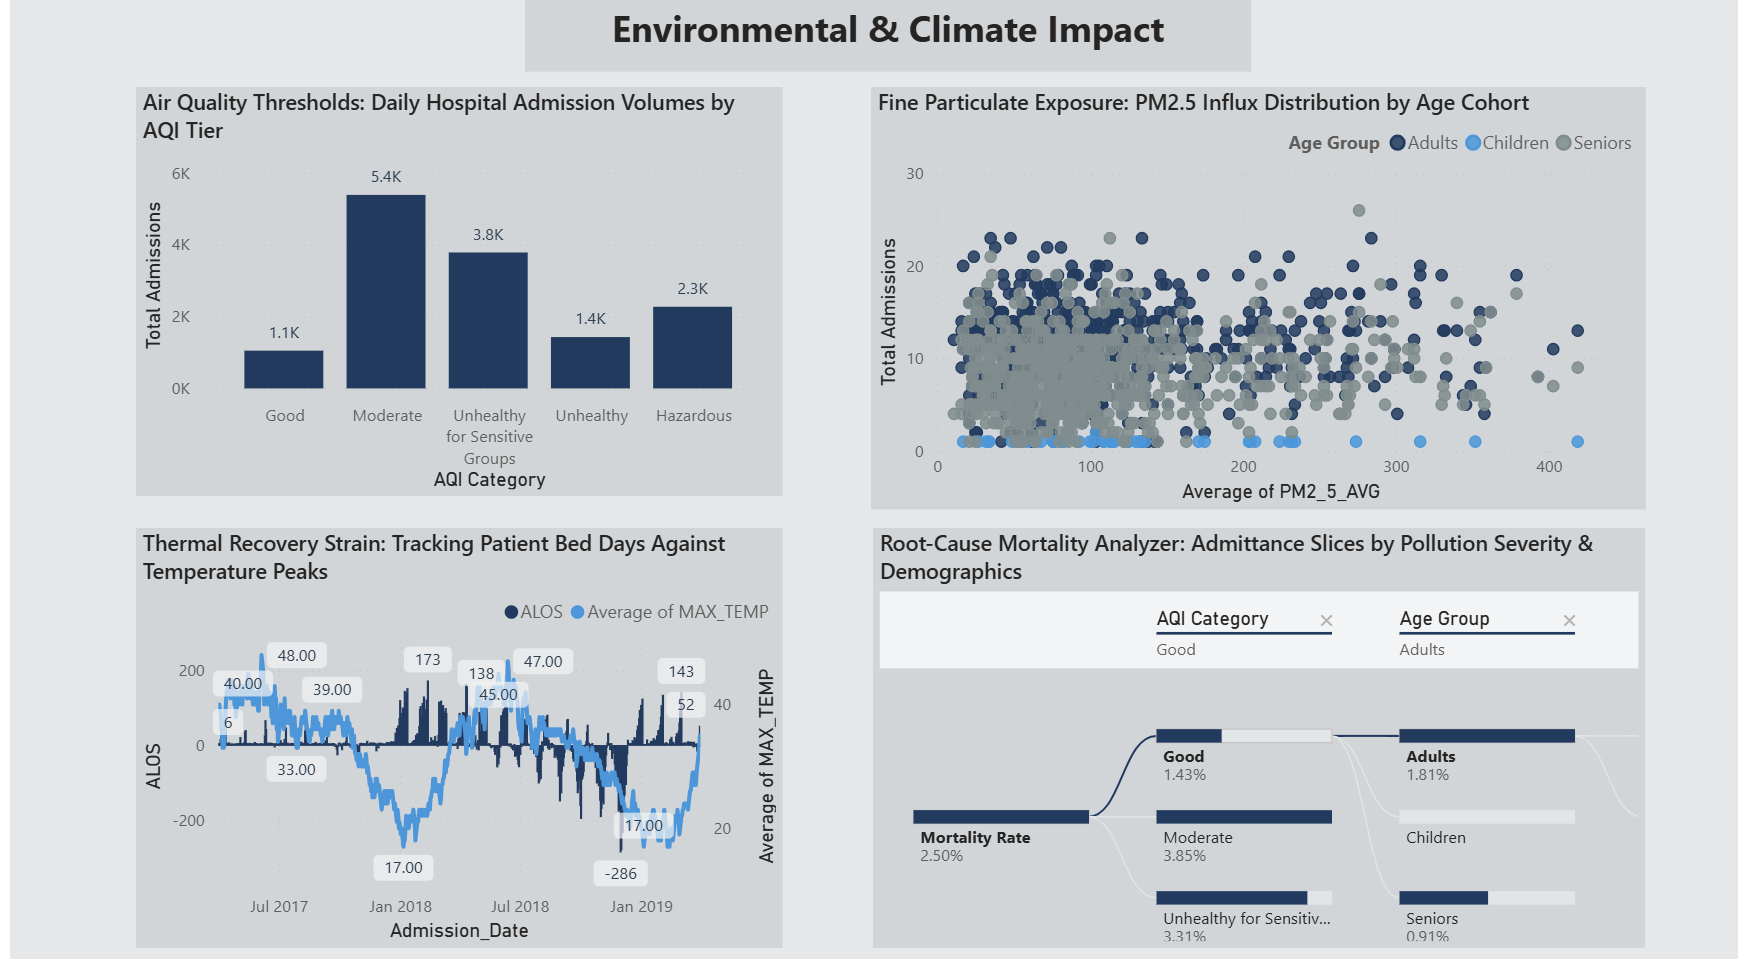

The page's visual inventory and layout, read from the dashboard file:
{"tool":"powerbi","page":{"name":"Environmental & Climate Impact","canvas":[1280,720],"ordinal":1},"visuals":[{"type":"clusteredColumnChart","title":"Air Quality Thresholds: Daily Hospital Admission Volumes by AQI Tier","fields":{"Category":["v_HospitalAdmission.AQI Category"],"Y":["v_HospitalAdmission.Total Admissions"]},"box":[93.3,67.2,478.9,303.3],"z":0},{"type":"scatterChart","title":"Fine Particulate Exposure: PM2.5 Influx Distribution by Age Cohort","fields":{"X":["Avg(v_HospitalAdmission.PM2_5_AVG)"],"Y":["v_HospitalAdmission.Total Admissions"],"Series":["v_HospitalAdmission.Age Group"],"Category":["v_HospitalAdmission.Admission_Date"]},"box":[638.1,67.2,573.6,312.9],"z":1000},{"type":"lineStackedColumnComboChart","title":"Thermal Recovery Strain: Tracking Patient Bed Days Against Temperature Peaks","fields":{"Category":["v_HospitalAdmission.Admission_Date"],"Y":["v_HospitalAdmission.ALOS"],"Y2":["Avg(v_HospitalAdmission.MAX_TEMP)"]},"box":[93.3,393.8,478.9,311.5],"z":2000},{"type":"decompositionTreeVisual","title":"Root-Cause Mortality Analyzer: Admittance Slices by Pollution Severity & Demographics","fields":{"ExplainBy":["v_HospitalAdmission.AQI Category","v_HospitalAdmission.Age Group","v_HospitalAdmission.Gender"],"Analyze":["v_HospitalAdmission.Mortality Rate"]},"box":[639.5,393.8,572.2,311.5],"z":3000},{"type":"textbox","box":[381.5,0,537.9,56.3],"z":3001}]}

Visuals, with their boxes in screenshot pixels (x1, y1, x2, y2), scaled from the page's 1280x720 canvas onto the 1740x959 screenshot:
"Air Quality Thresholds: Daily Hospital Admission Volumes by AQI Tier" clusteredColumnChart: [127, 90, 778, 493]
"Fine Particulate Exposure: PM2.5 Influx Distribution by Age Cohort" scatterChart: [867, 90, 1647, 506]
"Thermal Recovery Strain: Tracking Patient Bed Days Against Temperature Peaks" lineStackedColumnComboChart: [127, 525, 778, 939]
"Root-Cause Mortality Analyzer: Admittance Slices by Pollution Severity & Demographics" decompositionTreeVisual: [869, 525, 1647, 939]
textbox: [519, 0, 1250, 75]
